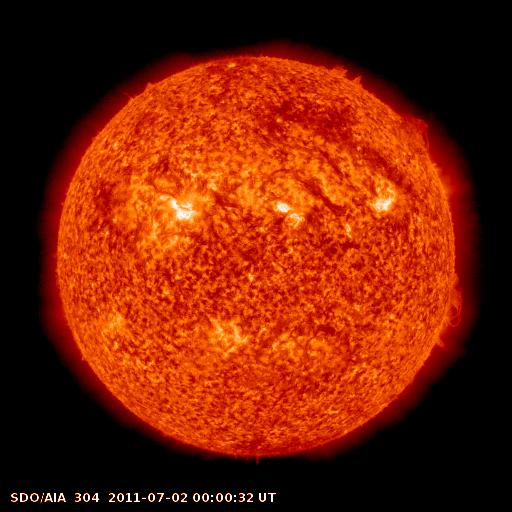prominence: (439, 268, 472, 331), (395, 102, 438, 149), (323, 58, 365, 89)
